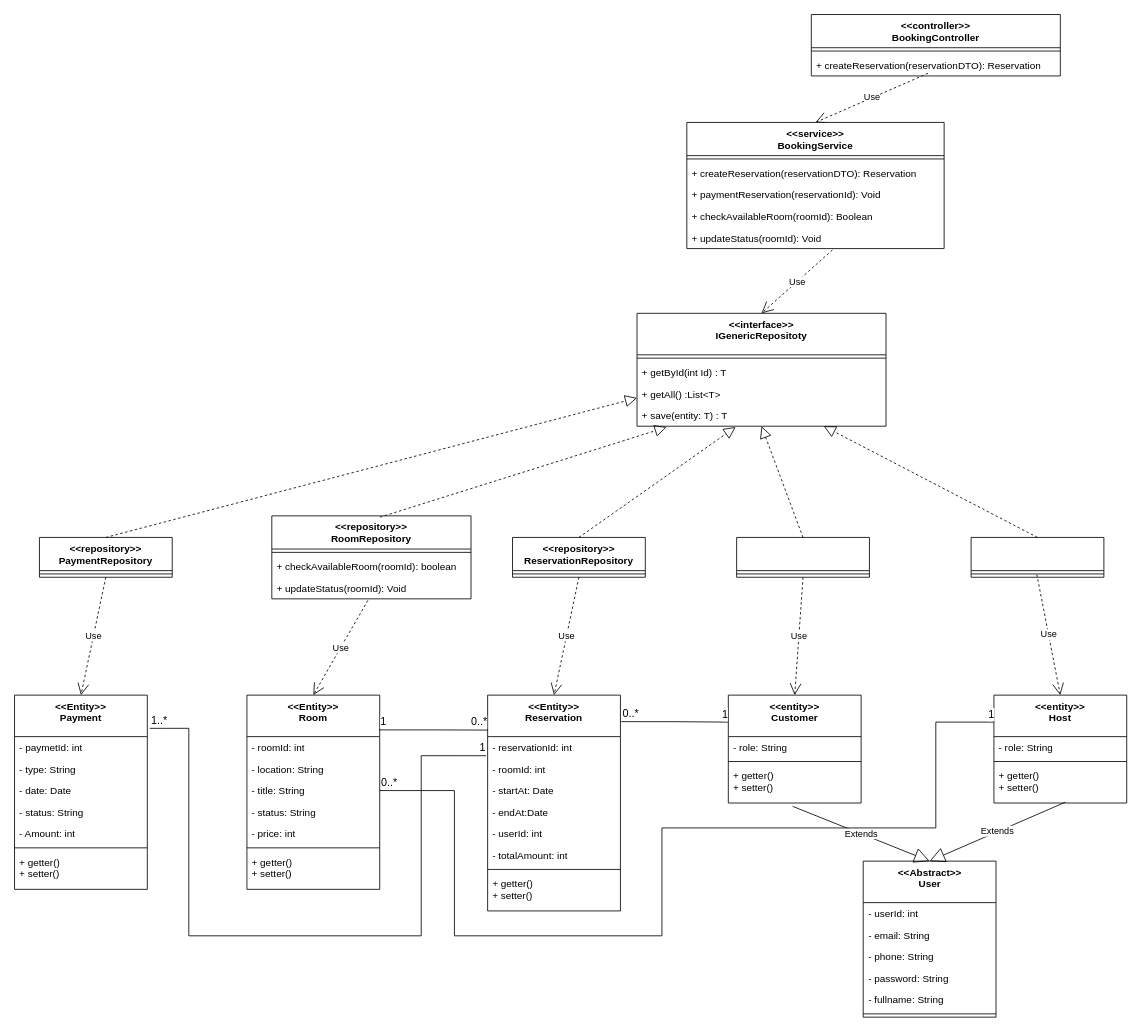
The diagram is 1141 pixels wide and 1032 high, and some of its shapes have lost their labels. The shapes that lost their labels are listed below. From the top down, each one's centre as x and y in pixels, then its label:
the point at 802,557: <<repository>> CustomerRepository
the point at 1037,557: <<repository>> HostRepository
